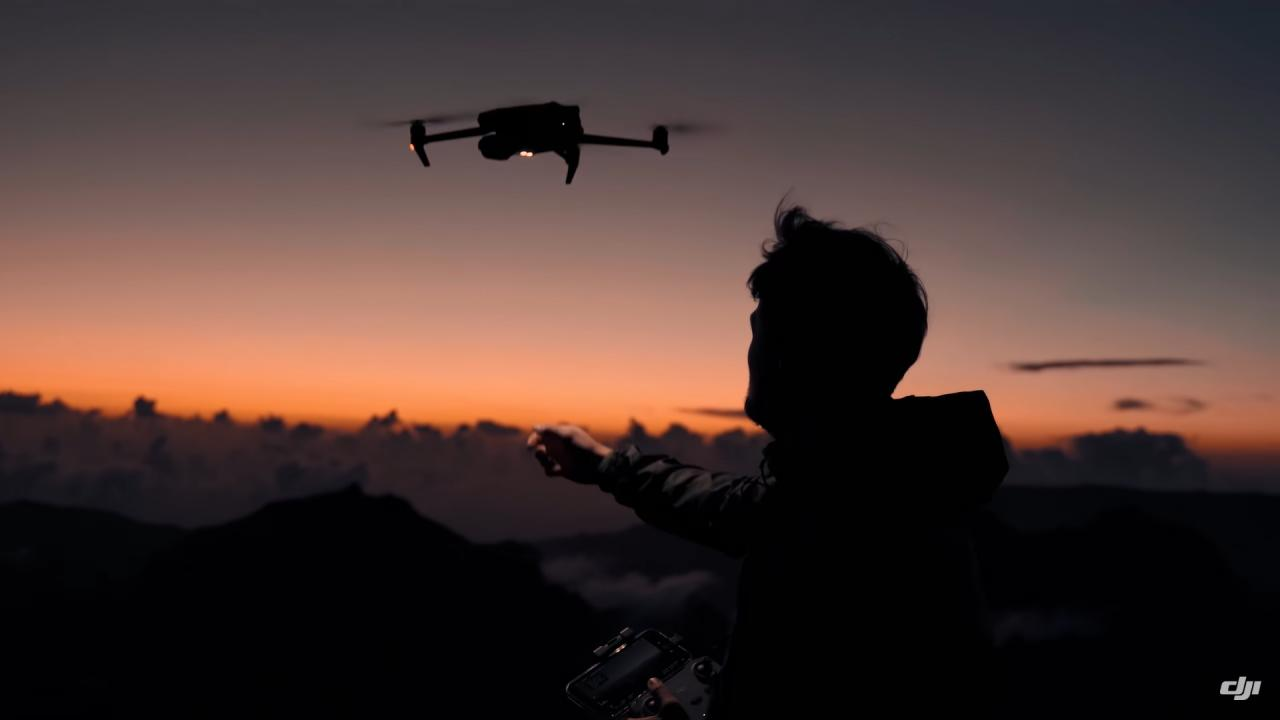Drone: (345, 84, 743, 197)
